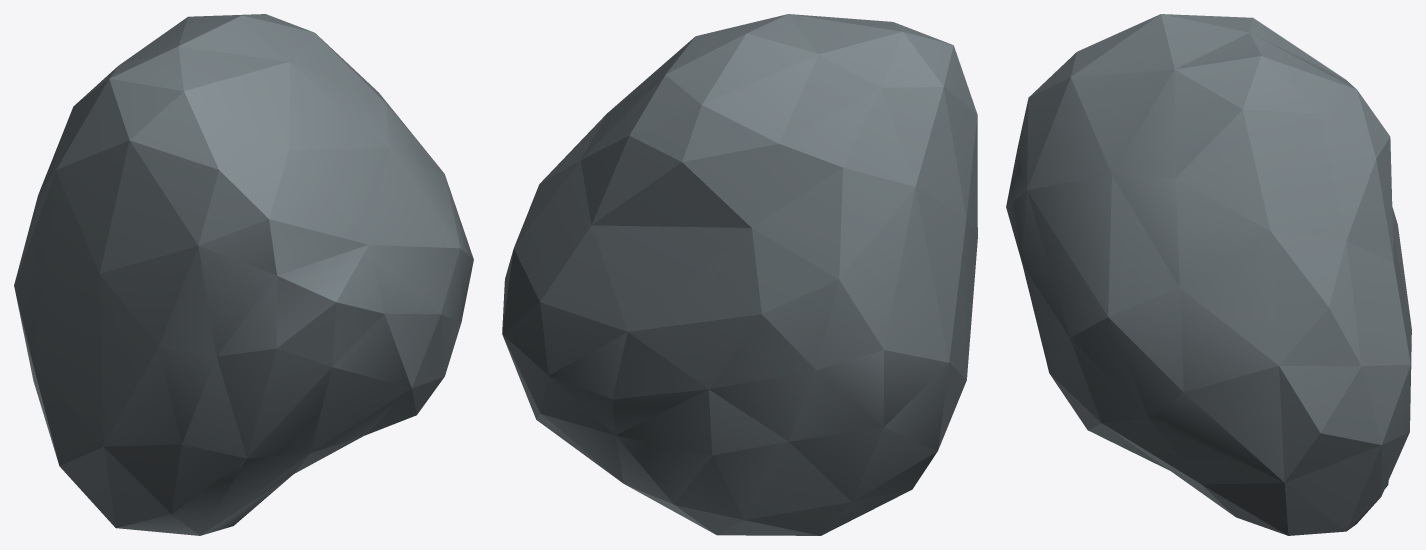
The model's file is kf_rock_3_i.fbx.
3 views of the same model, side by side, from view 1: azimuth 30°, elevation 25°; view 2: azimuth 150°, elevation 25°; view 3: azimuth 270°, elevation 25° (orthographic). The views are drawn at different scales.
Parts seen in each view (by area): view 1: kf_rock_3_i; view 2: kf_rock_3_i; view 3: kf_rock_3_i.
Part boxes in pixels (x1,y1,x2,y2): kf_rock_3_i: (14, 14, 473, 535); kf_rock_3_i: (502, 14, 977, 535); kf_rock_3_i: (1006, 14, 1411, 535).
Size of the model in its own units: 4.61 by 5.06 by 3.94.
